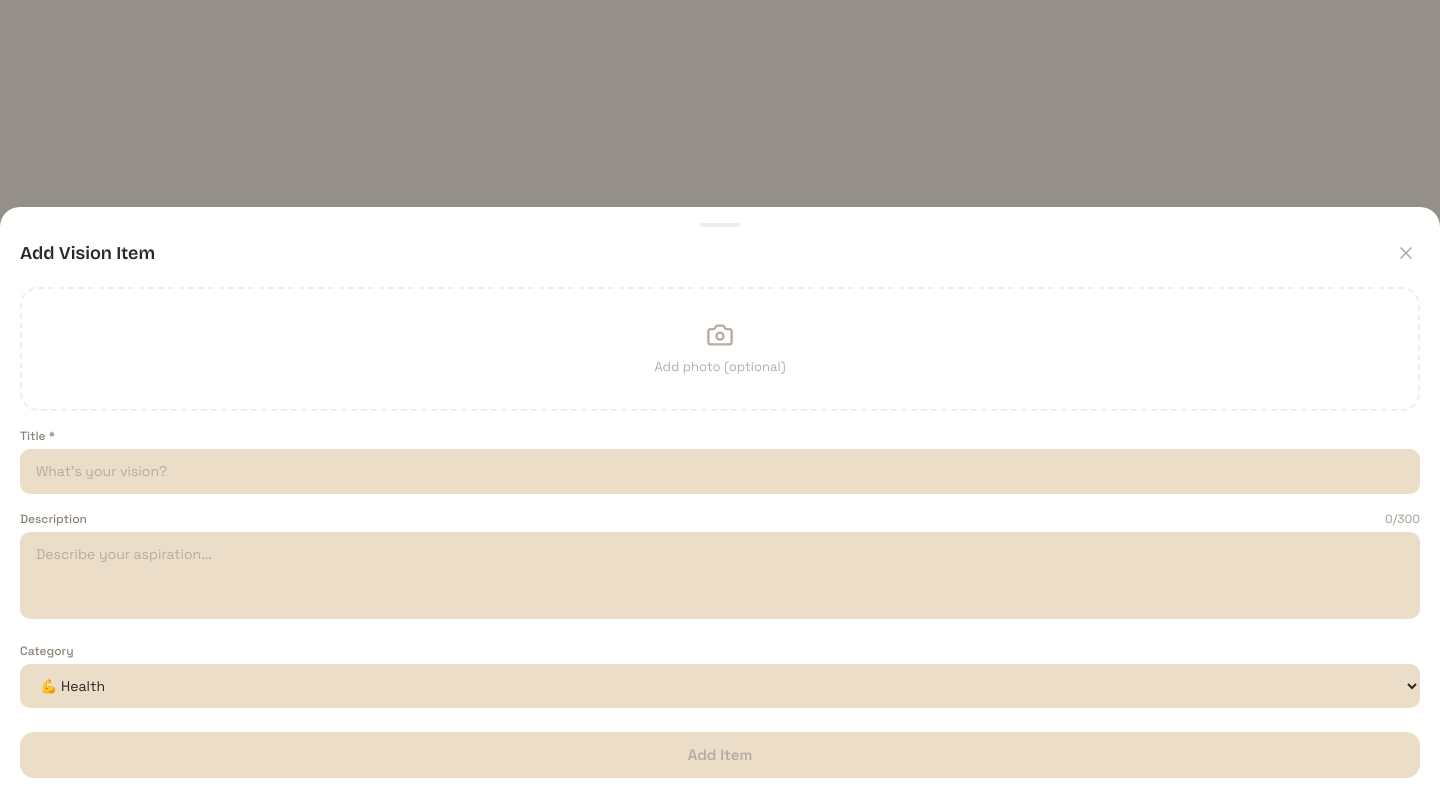
Test: AddVisionItemForm › updates description char count as user types
This screenshot has width=1440, height=810.
Type "Hello world" into the text box with test id "description-input" at (720, 575), box [20,532,1420,618]
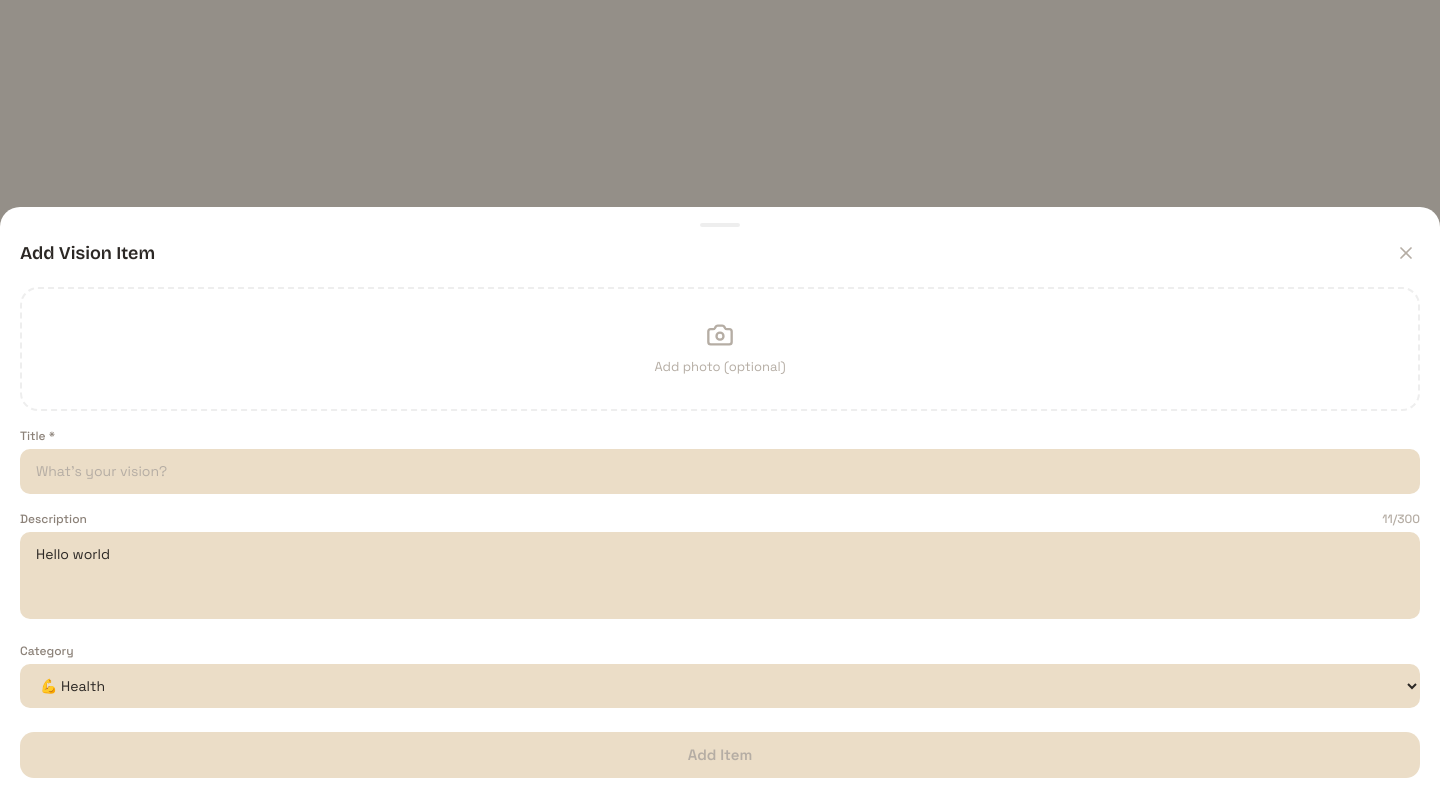
Check: the text "11/300" is shown, box [1382,510,1420,528]
